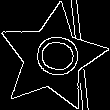O_W: (24, 33, 81, 83)
